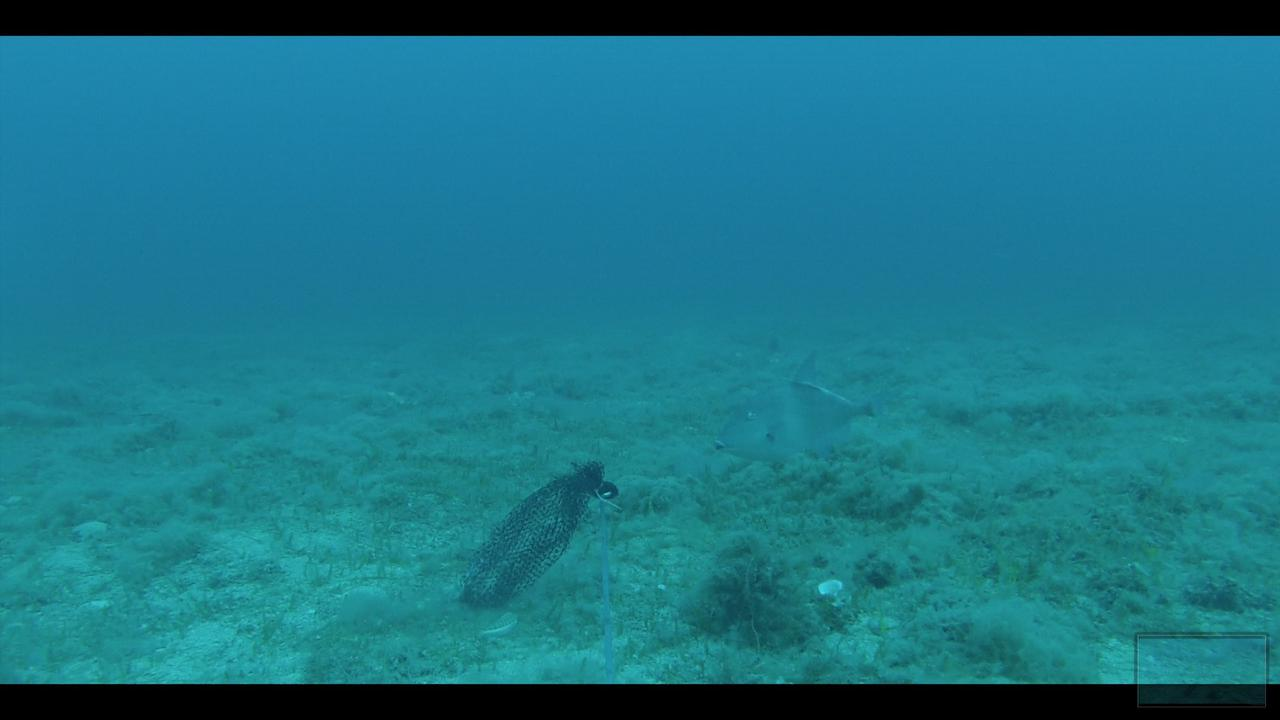balistes: (711, 351, 906, 477)
